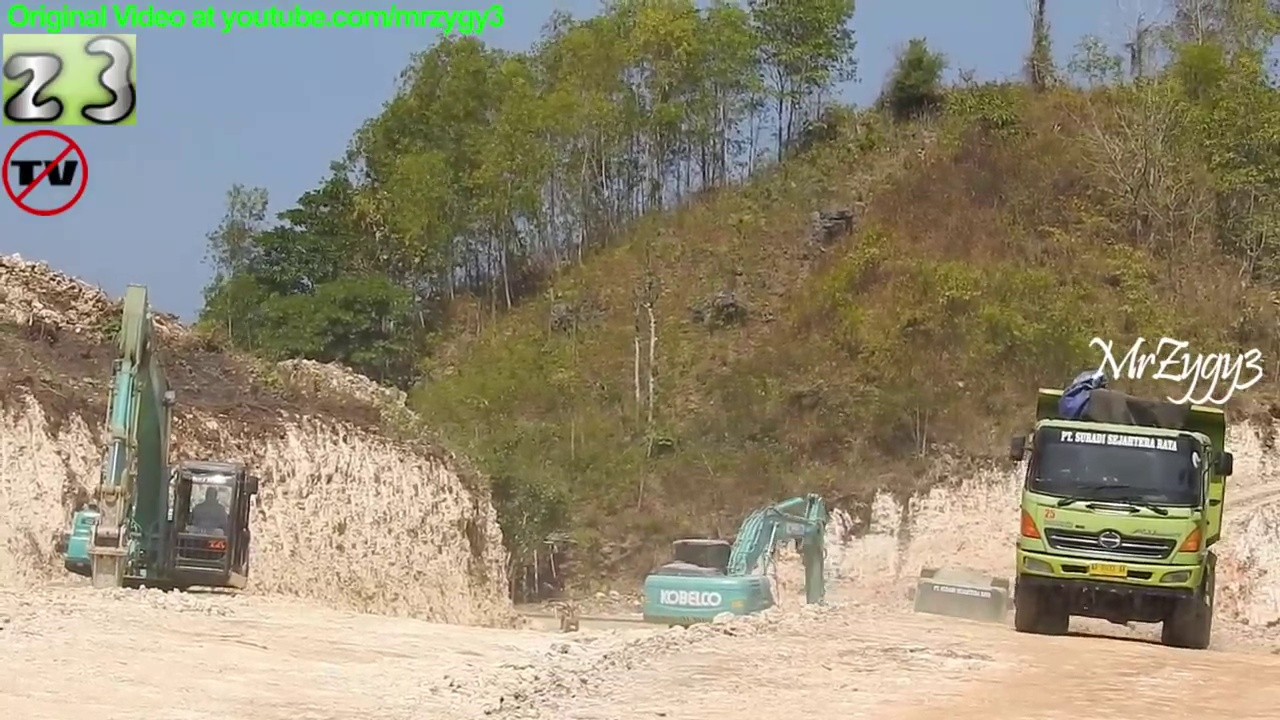excavator: (60, 279, 267, 644), (637, 488, 843, 655)
truck: (1003, 381, 1240, 652), (902, 559, 1022, 678)
